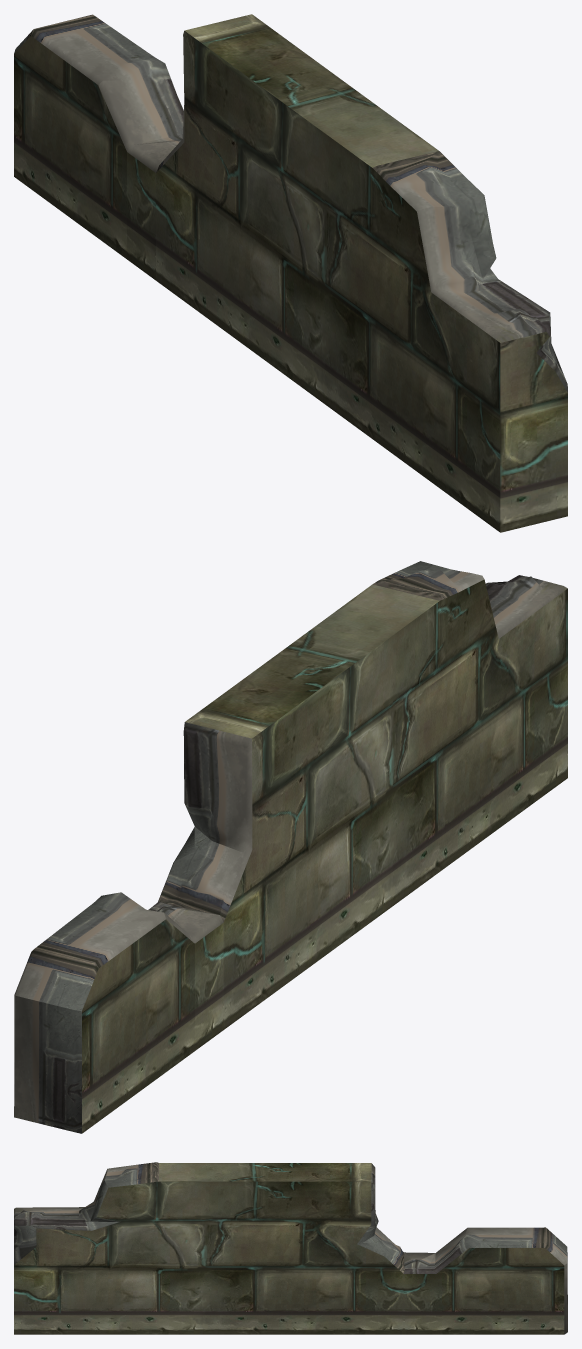
Rendered from F_waiqiang009.fbx.
3 views of the same model, one above another, from view 1: azimuth 30°, elevation 25°; view 2: azimuth 150°, elevation 25°; view 3: azimuth 270°, elevation 25° (orthographic). The views are drawn at different scales.
Visible parts, largest first — view 1: F_waiqiang009; view 2: F_waiqiang009; view 3: F_waiqiang009.
Boxes of the visible parts, box(x1,y1,x2,y2) form: F_waiqiang009: box(14, 14, 567, 532); F_waiqiang009: box(14, 561, 567, 1133); F_waiqiang009: box(14, 1162, 567, 1334).
Size of the model in its own units: 31.44 by 121 by 388.
